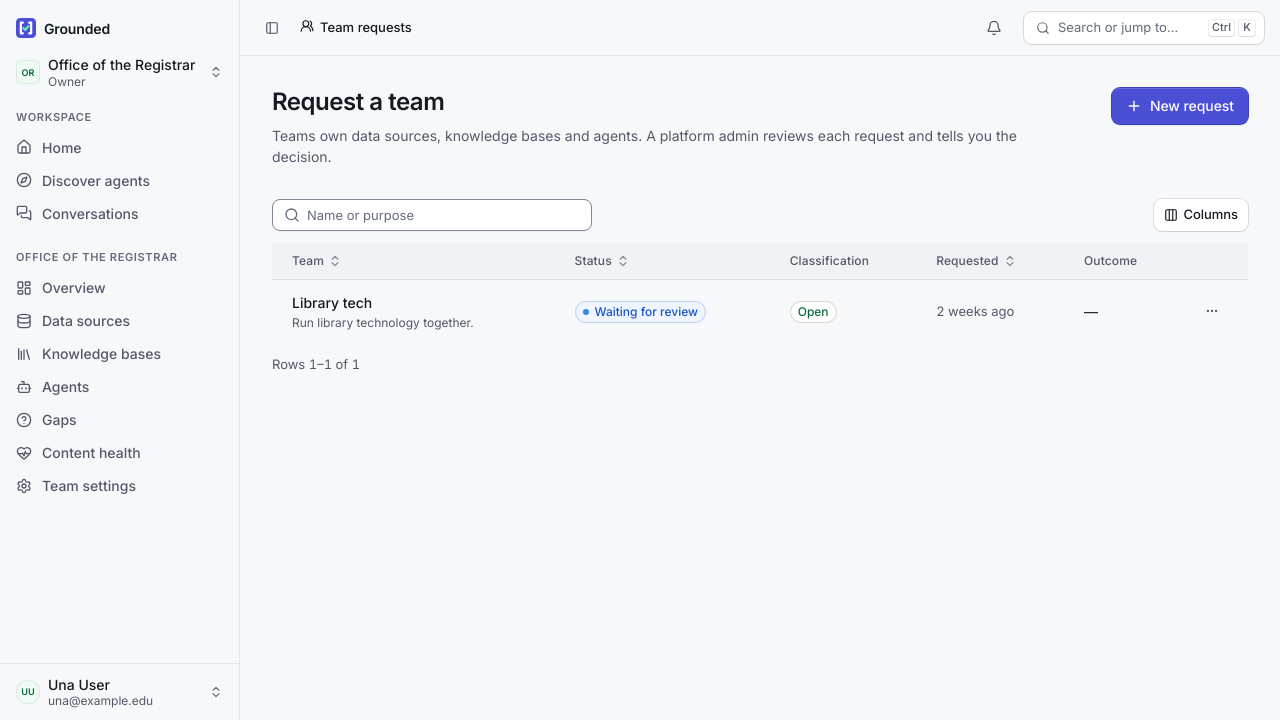
Test: the Withdraw dialog › says you can ask again when asking is possible, also when only the open-request limit is reached
The image size is (1280, 720).
Click the button named "Actions for Library tech": (1212, 311) [1196,295,1228,327]
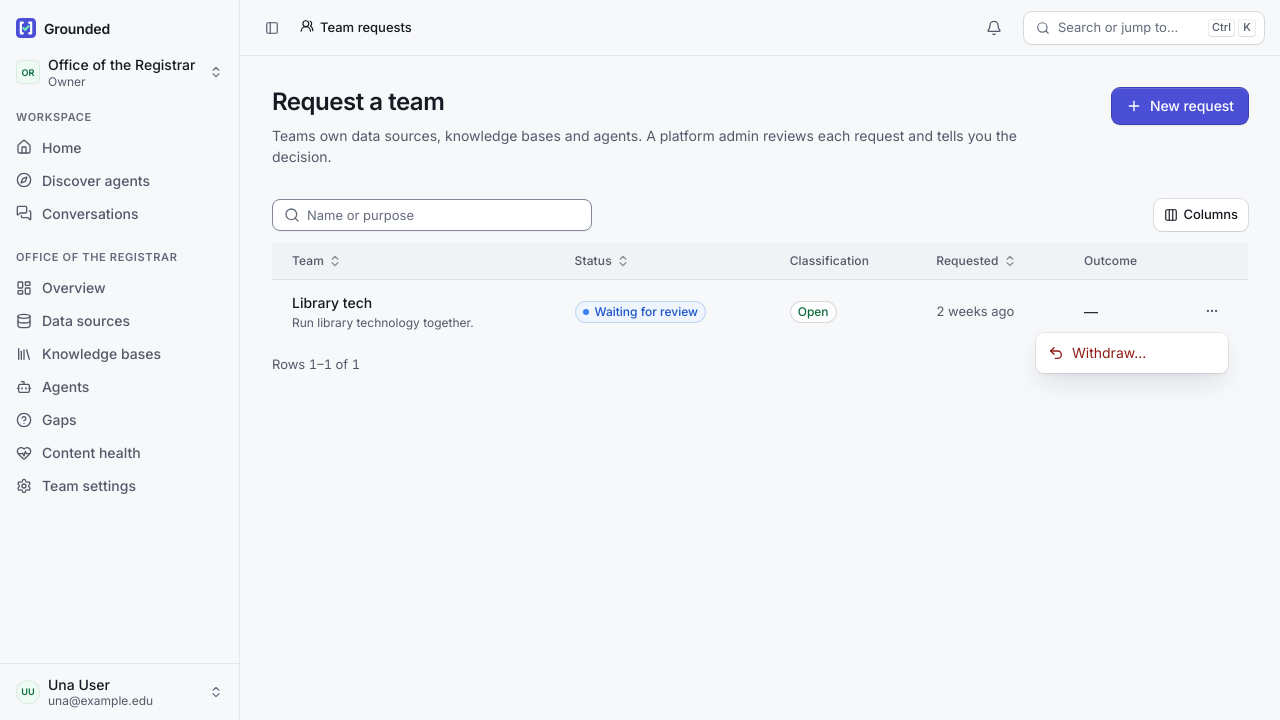
Click the menu item "Withdraw…": (1097, 352) [1048,344,1146,361]
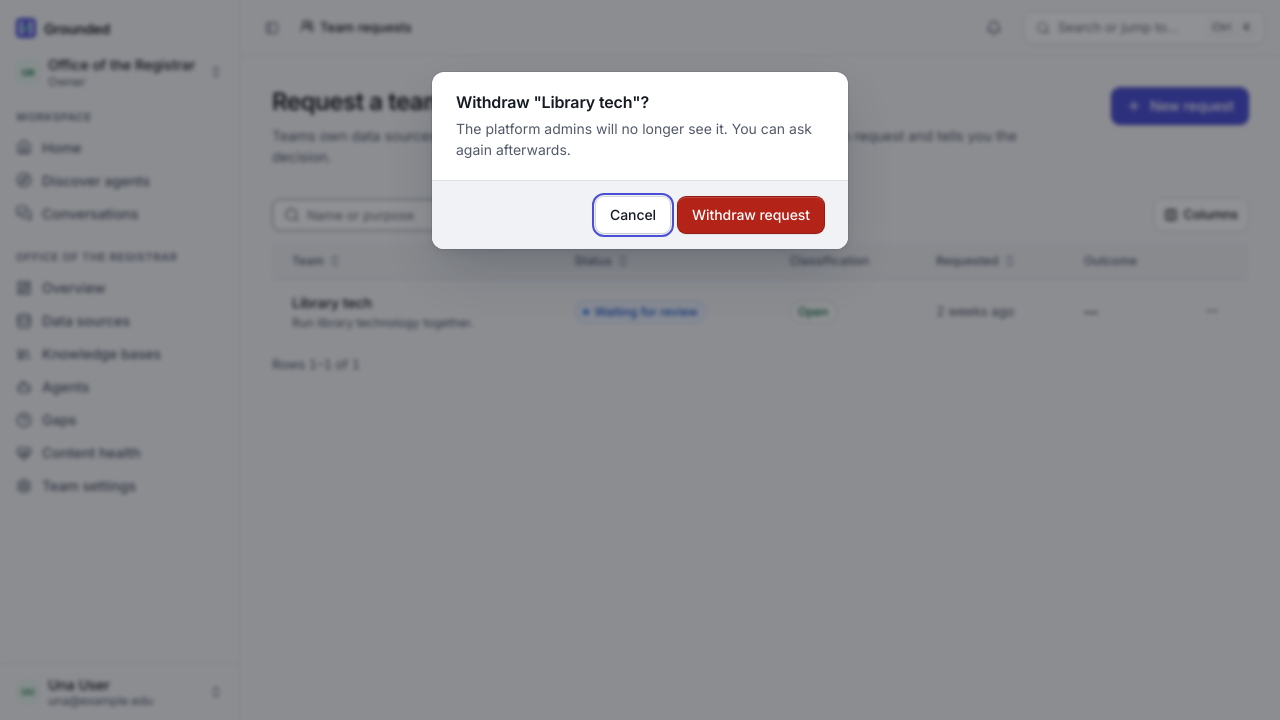
Expected: the dialog shows "You can ask again afterwards.", [456,120,812,158]
